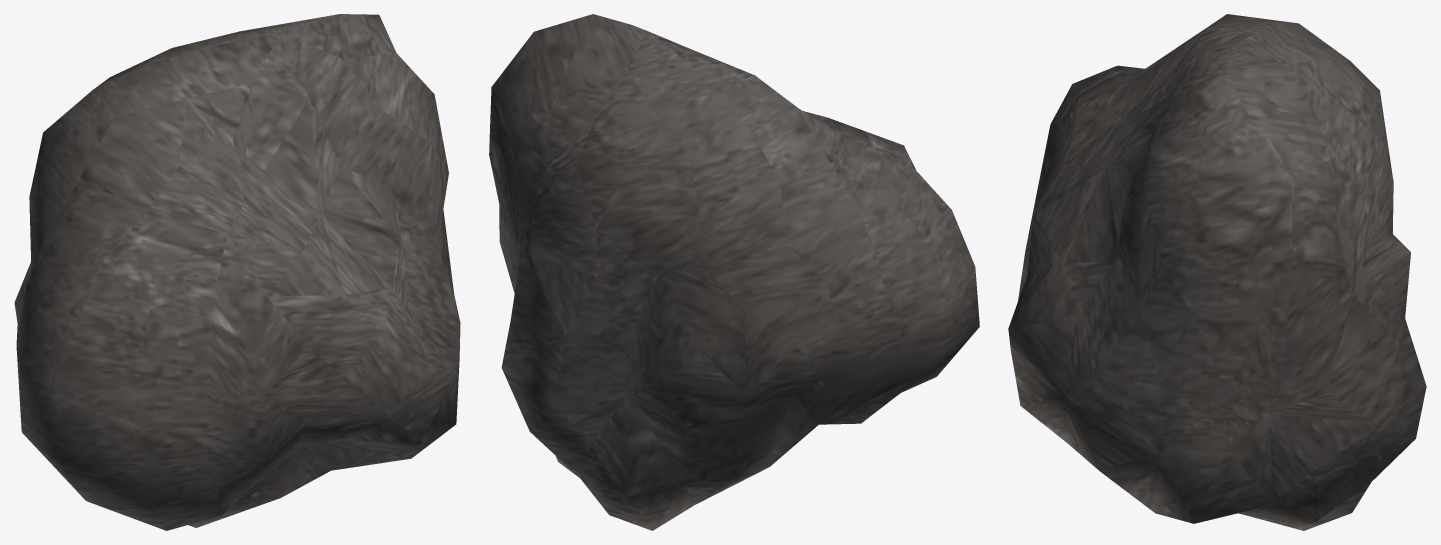
Rendered from rock2.compressed-DDudj9xH.glb.
3 renders of one model, left to right at view 1: azimuth 30°, elevation 25°; view 2: azimuth 150°, elevation 25°; view 3: azimuth 270°, elevation 25°, orthographic. The views are drawn at different scales.
Visible parts, largest first — view 1: Sphere; view 2: Sphere; view 3: Sphere.
Part boxes in pixels (x1,y1,x2,y2): Sphere: [14, 14, 460, 530]; Sphere: [489, 14, 979, 530]; Sphere: [1008, 14, 1426, 530].
Bounding box in the file's own units: 2.07 × 2.23 × 1.67.
1 material, 1 textured.
